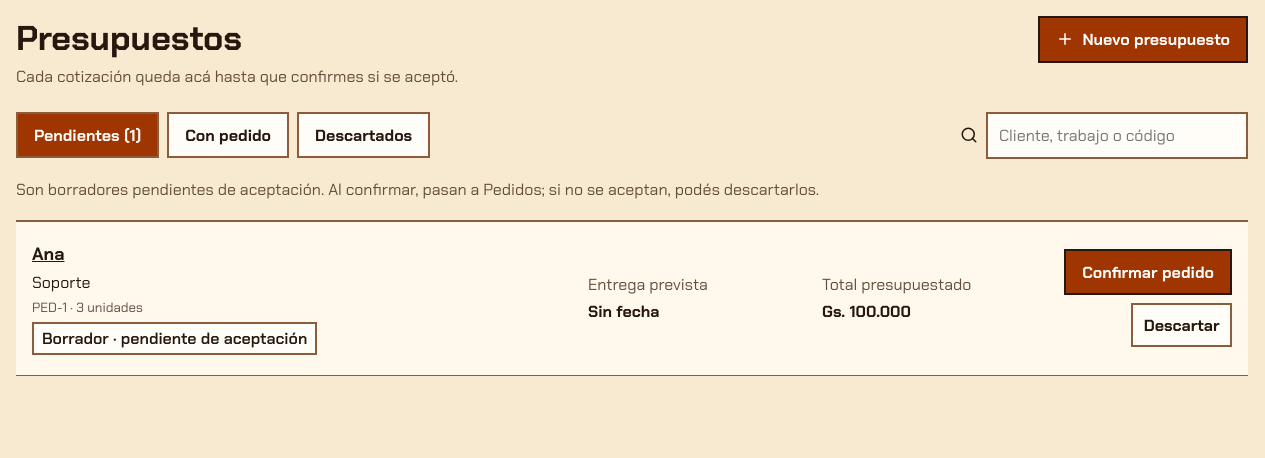
Test: uses Presupuestos as the pending acceptance inbox and confirms its existing order
Expected: the link "Ana" is shown, [32,242,64,266]
Expected: the button "Pendientes (1)" is shown, [16,112,159,158]
Click the button "Confirmar pedido" at (1148, 272), box [1064,249,1232,296]
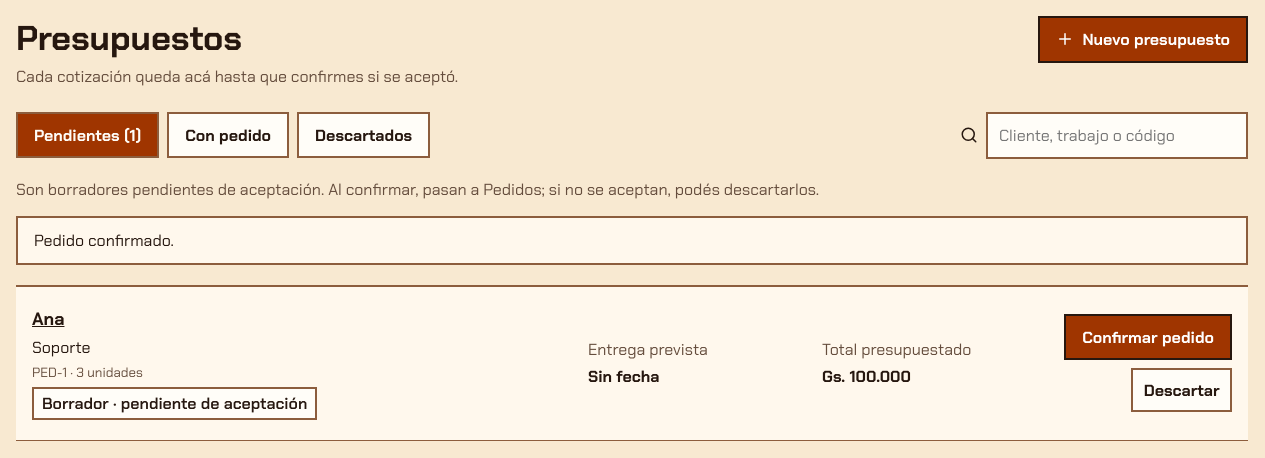
Result: the text "Pedido confirmado." is shown at [16,216,1248,265]
